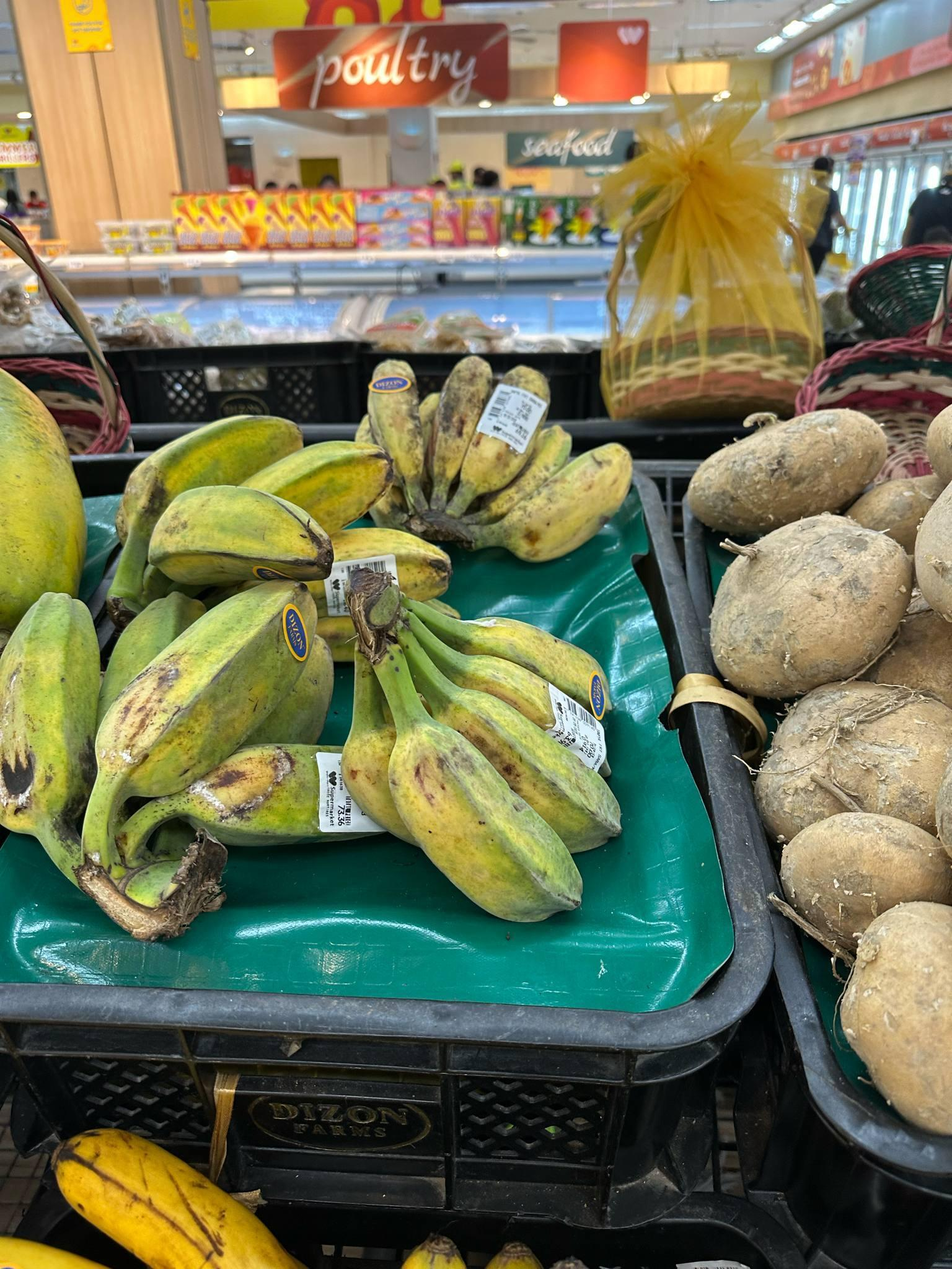ripe: (358, 355, 633, 560)
underripe: (340, 615, 626, 924), (0, 578, 332, 843), (116, 415, 451, 600)
